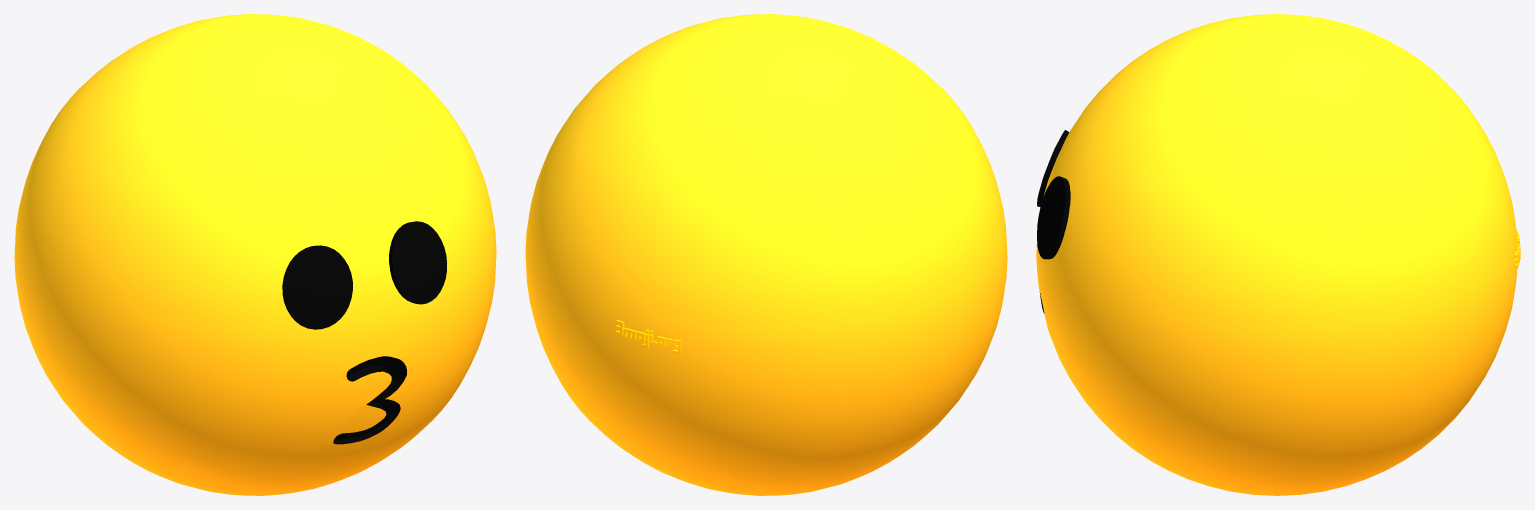
3 renders of one model, left to right at view 1: azimuth 30°, elevation 25°; view 2: azimuth 150°, elevation 25°; view 3: azimuth 270°, elevation 25°, orthographic.
Parts seen in each view (by area): view 1: Kissing Face; view 2: Kissing Face; view 3: Kissing Face.
Part boxes in pixels (<box>): Kissing Face: <box>14,14,496,495</box>; Kissing Face: <box>525,14,1007,495</box>; Kissing Face: <box>1036,14,1520,495</box>.
Size of the model in its own units: 1.69 by 1.69 by 1.7.
1 material, 1 textured.
